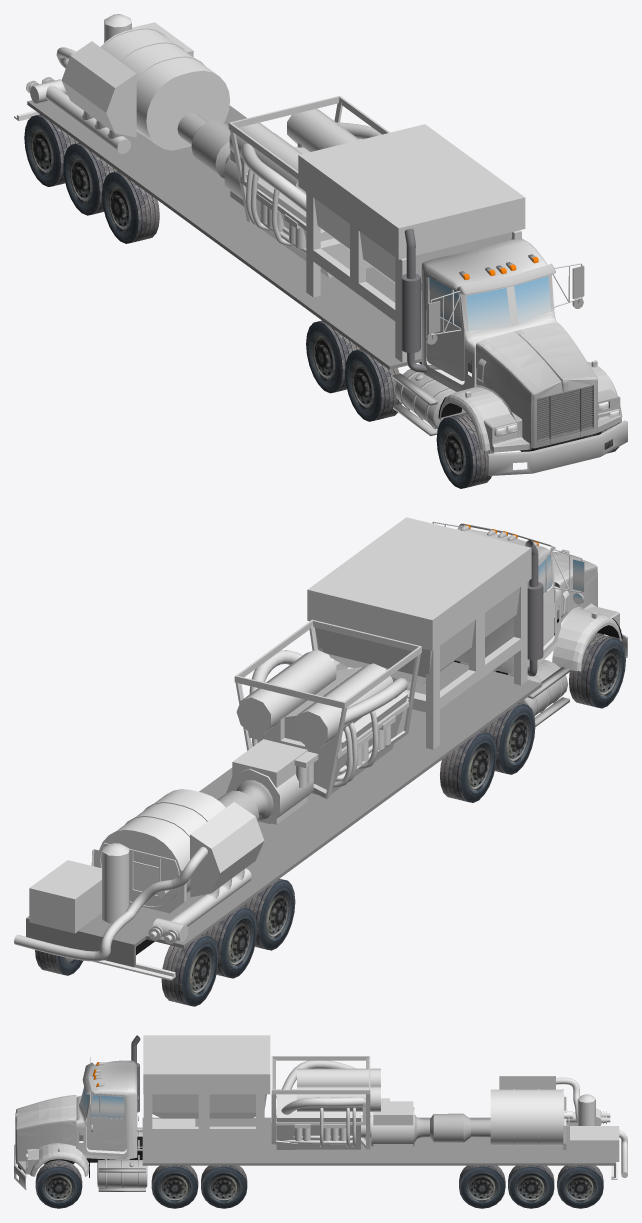
File: FrackPump.FBX
3 views of the same model, one above another, from view 1: azimuth 30°, elevation 25°; view 2: azimuth 150°, elevation 25°; view 3: azimuth 270°, elevation 25° (orthographic). The views are drawn at different scales.
Parts seen in each view (by area): view 1: Box004, Group_114, Group_077, Group_094, Group_129, Gengon002, Box008, Group_087, newtire016, newtire009, newtire010, Group_071 (+16 smaller); view 2: Box004, Group_114, Group_131, Box008, Gengon002, Group_077, Box018, Cylinder008, newtire009, newtire014, newtire011, Rectangle001 (+21 smaller); view 3: Group_114, Box004, Group_077, Group_094, Box008, Gengon001, newtire006, Line001, Box018, newtire007, newtire013, newtire008 (+24 smaller).
Boxes of the visible parts, left/top/right/bottom form: Box004: left=298, top=124, right=525, bottom=290; Group_114: left=27, top=93, right=421, bottom=369; Group_077: left=439, top=322, right=622, bottom=452; Group_094: left=421, top=238, right=556, bottom=389; Group_129: left=136, top=55, right=230, bottom=150; Gengon002: left=61, top=41, right=136, bottom=137; Box008: left=306, top=192, right=521, bottom=362; Group_087: left=487, top=420, right=627, bottom=475; newtire016: left=102, top=171, right=159, bottom=243; newtire009: left=436, top=413, right=493, bottom=488; newtire010: left=345, top=349, right=401, bottom=421; Group_071: left=393, top=369, right=466, bottom=436; Box004: left=307, top=517, right=531, bottom=684; Group_114: left=26, top=661, right=541, bottom=967; Group_131: left=91, top=817, right=190, bottom=914; Box008: left=315, top=582, right=527, bottom=749; Gengon002: left=190, top=802, right=264, bottom=897; Group_077: left=552, top=551, right=621, bottom=671; Box018: left=29, top=860, right=101, bottom=933; Cylinder008: left=236, top=649, right=336, bottom=734; newtire009: left=569, top=633, right=625, bottom=708; newtire014: left=161, top=935, right=218, bottom=1006; newtire011: left=440, top=731, right=496, bottom=802; Rectangle001: left=234, top=619, right=421, bottom=708; Group_114: left=142, top=1117, right=615, bottom=1177; Box004: left=143, top=1035, right=270, bottom=1118; Group_077: left=15, top=1095, right=89, bottom=1176; Group_094: left=76, top=1060, right=137, bottom=1158; Box008: left=143, top=1094, right=264, bottom=1158; Gengon001: left=276, top=1089, right=361, bottom=1149; newtire006: left=35, top=1160, right=82, bottom=1208; Line001: left=414, top=1113, right=490, bottom=1142; Box018: left=570, top=1126, right=619, bottom=1161; newtire007: left=151, top=1165, right=198, bottom=1208; newtire013: left=508, top=1165, right=554, bottom=1208; newtire008: left=201, top=1165, right=247, bottom=1208.
Bounding box in the file's own units: 159 × 201 × 847.
18 materials, 7 textured.
